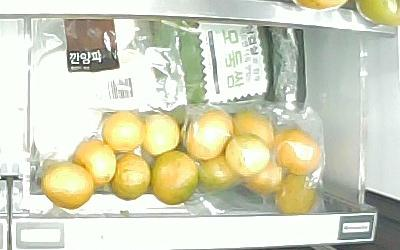tangerine: (40, 162, 93, 210), (153, 150, 198, 205), (73, 139, 116, 187), (226, 134, 272, 177), (109, 153, 150, 200), (100, 111, 145, 152), (142, 111, 180, 156)
tangerine_vinyl: (183, 109, 233, 160), (273, 129, 323, 176), (273, 170, 322, 215), (197, 153, 243, 191), (243, 155, 285, 195), (232, 111, 276, 149)
